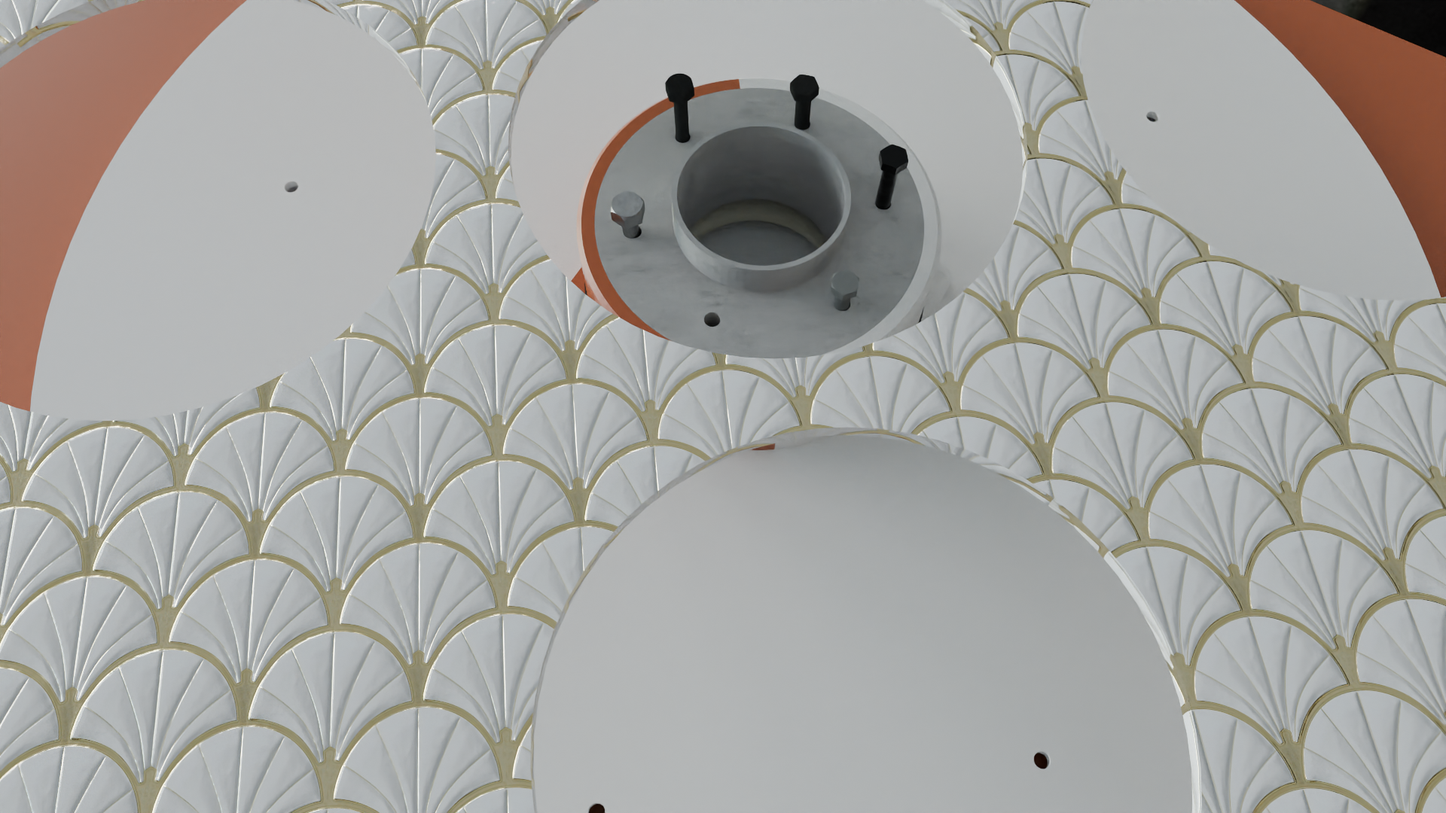bolt: (611, 191, 644, 221), (831, 269, 859, 296), (665, 73, 694, 97), (880, 145, 908, 169), (790, 75, 819, 96)
